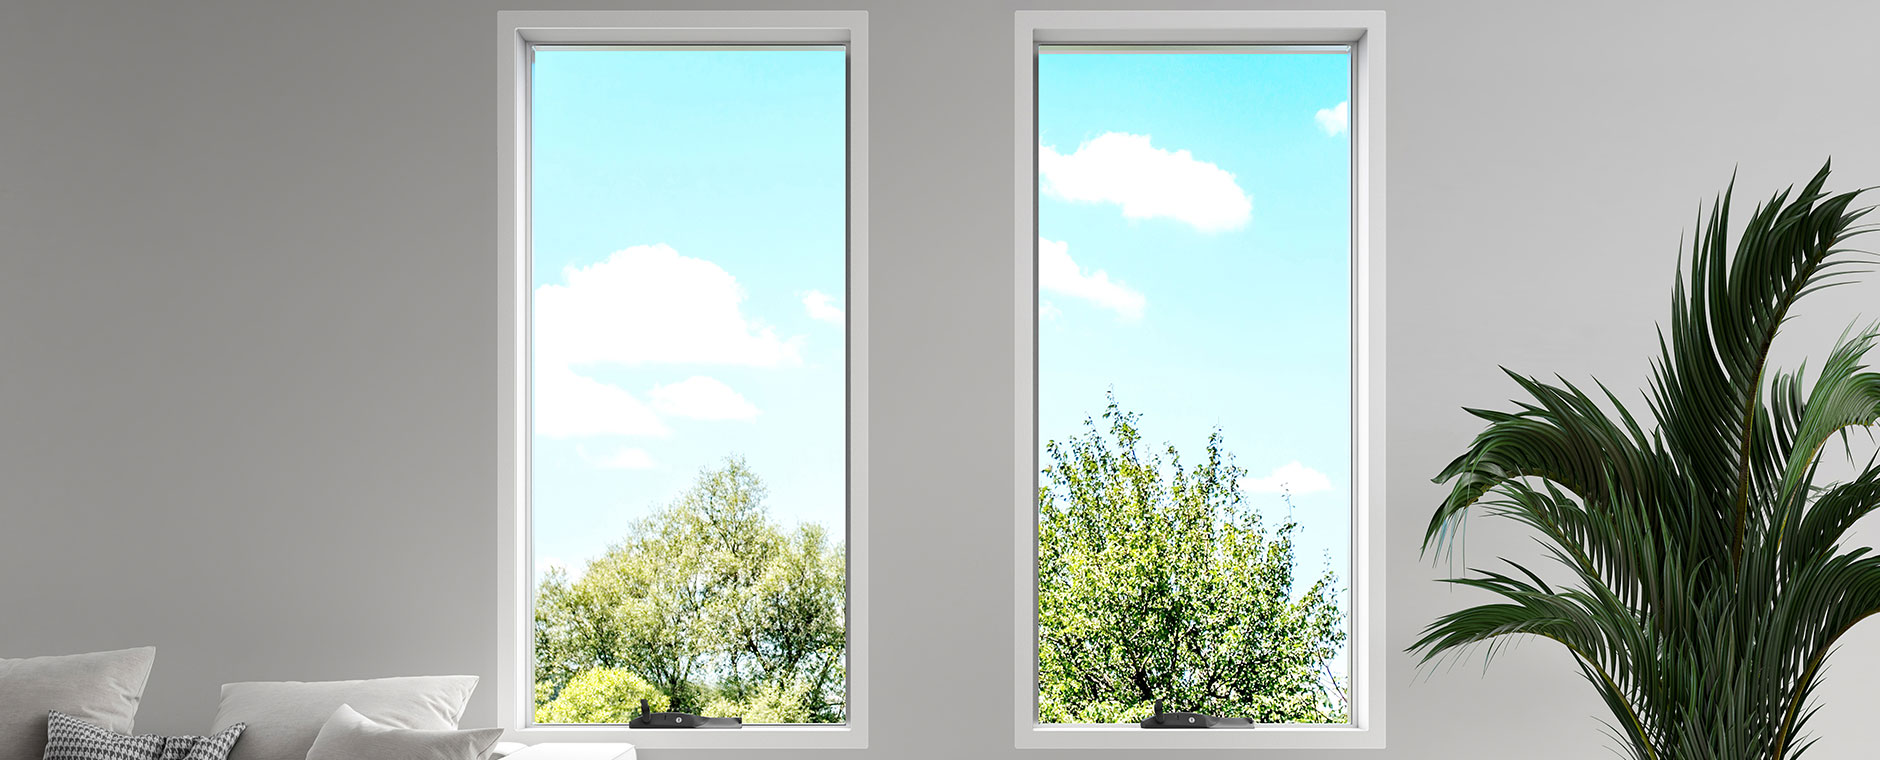Window: (494, 14, 1374, 737)
